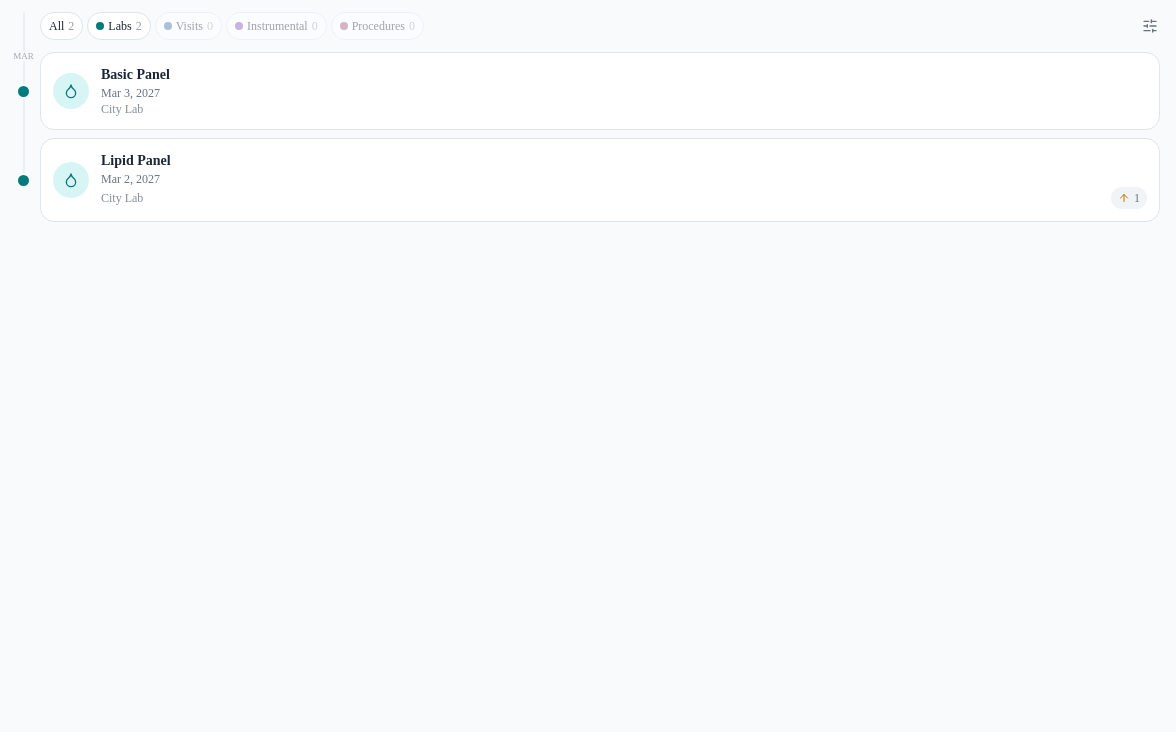
Test: HistoryList › filters to exactly the events that carry flagged chips
The image size is (1176, 732).
Click the button named "Filter history": (1150, 26) [1136,12,1164,40]
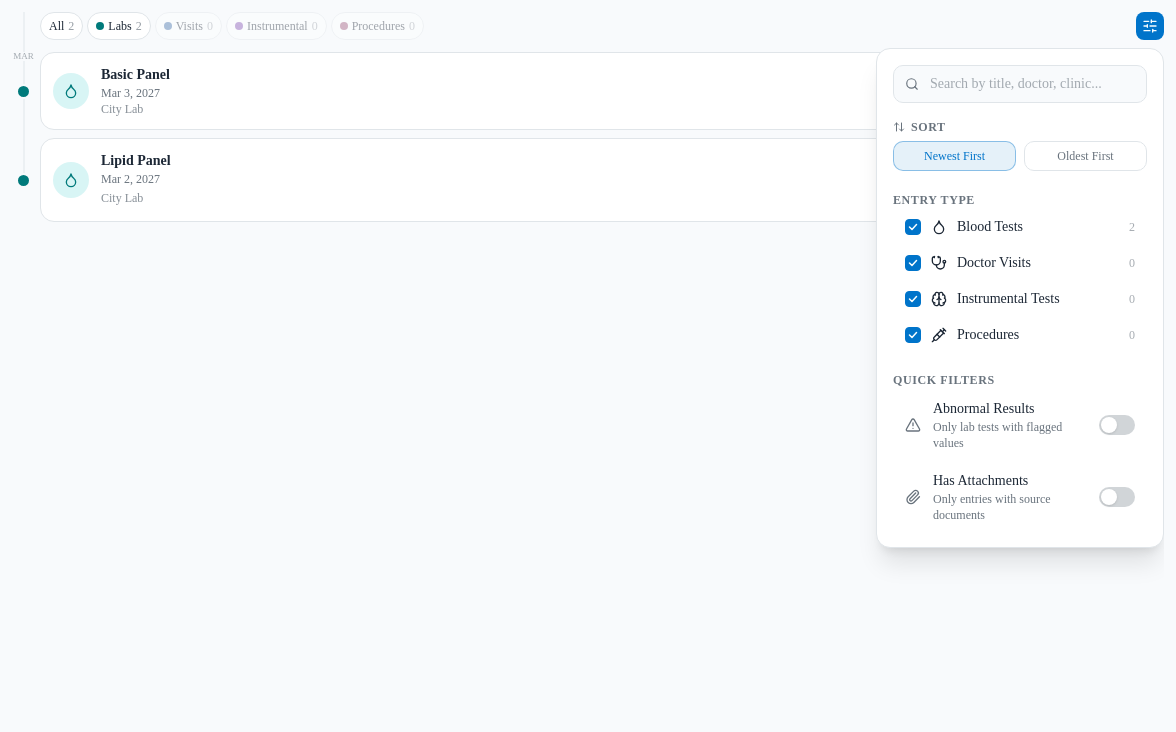
Click the button "Abnormal Results Only lab tests with flagged values": (1020, 425) [893,391,1147,459]
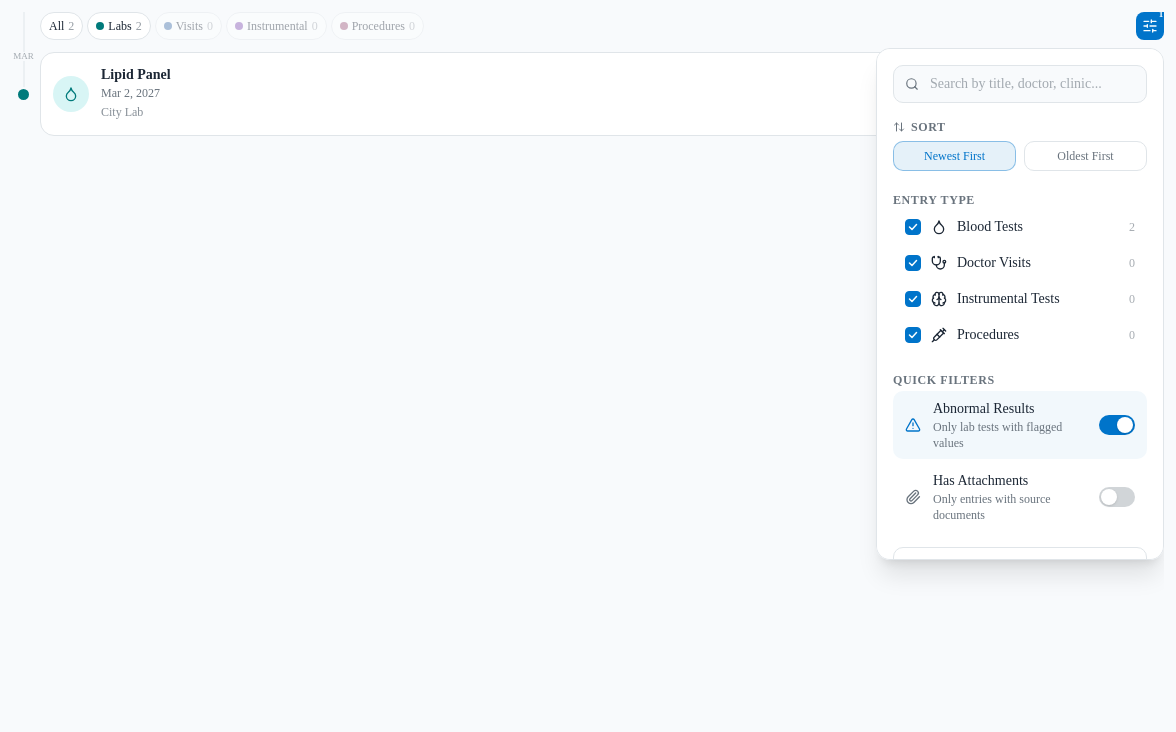
Expected: the text "Lipid Panel" is shown, [101,67,171,82]
Result: the button "Basic Panel" is gone
